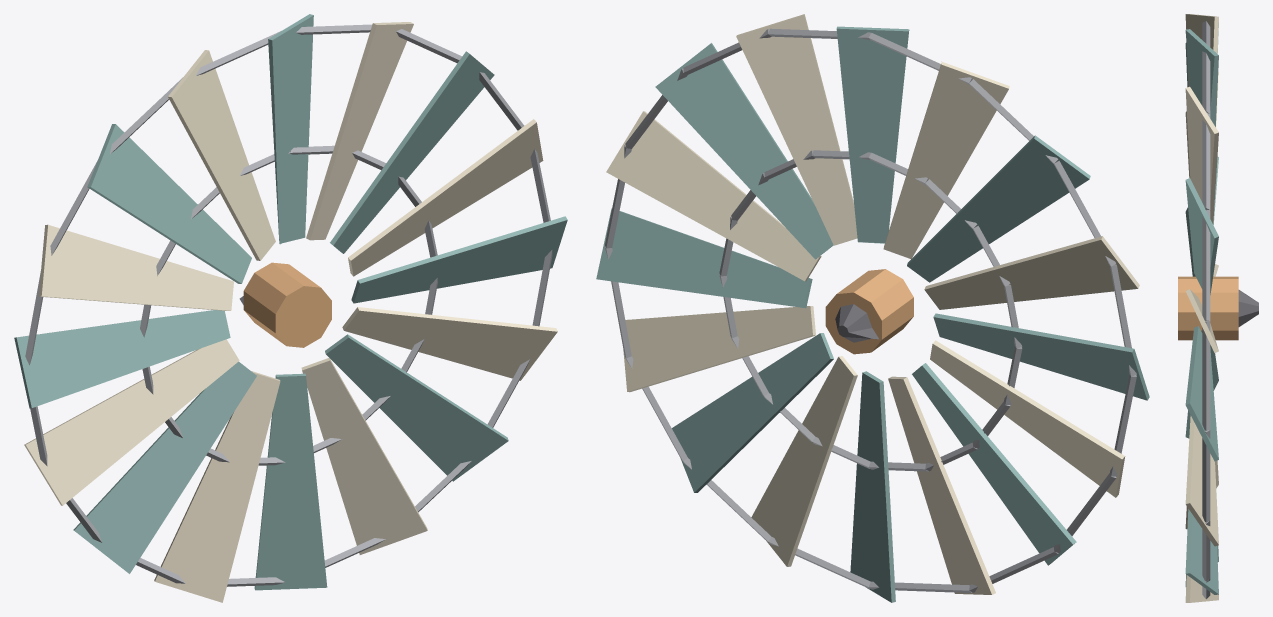
The model's file is lobby_windmill_rotor.glb.
3 views of the same model, side by side, from view 1: azimuth 30°, elevation 25°; view 2: azimuth 150°, elevation 25°; view 3: azimuth 270°, elevation 25° (orthographic). The views are drawn at different scales.
Visible parts, largest first — view 1: LobbyWindmillRotor; view 2: LobbyWindmillRotor; view 3: LobbyWindmillRotor.
Part boxes in pixels (x1,y1,x2,y2): LobbyWindmillRotor: [14, 14, 567, 602]; LobbyWindmillRotor: [596, 14, 1149, 602]; LobbyWindmillRotor: [1178, 14, 1258, 602].
Bounding box in the file's own units: 2.9 × 2.9 × 0.4.
